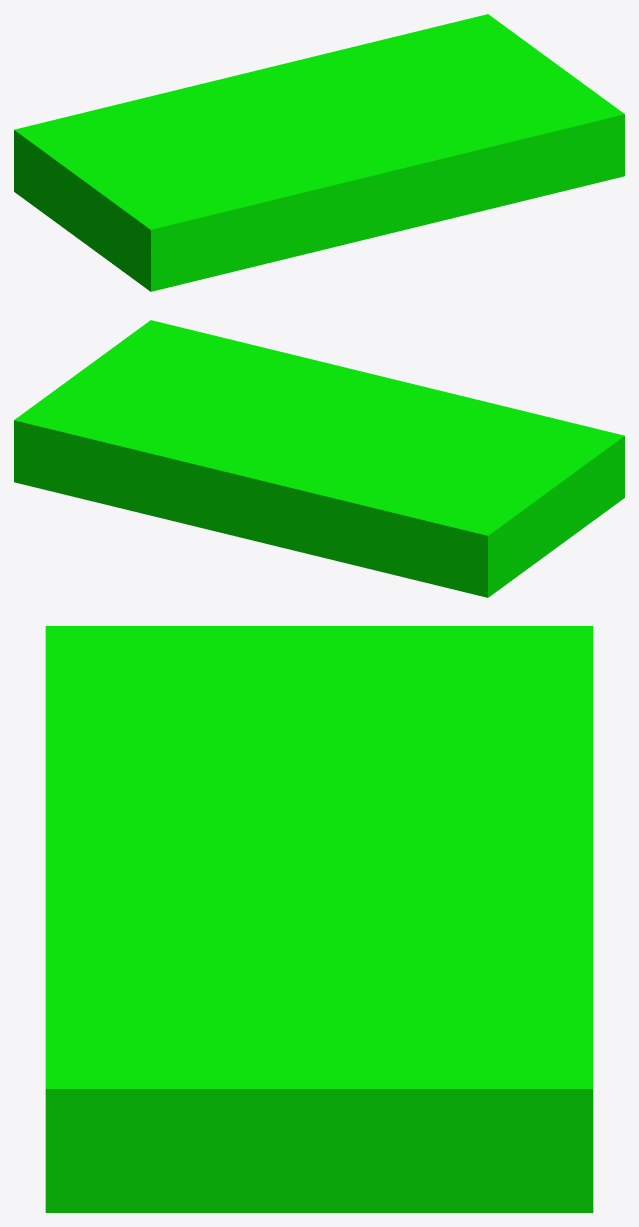
The model's file is Road.fbx.
3 renders of one model, top to bottom at view 1: azimuth 30°, elevation 25°; view 2: azimuth 150°, elevation 25°; view 3: azimuth 270°, elevation 25°, orthographic. The views are drawn at different scales.
Visible parts, largest first — view 1: generated; view 2: generated; view 3: generated.
Part boxes in pixels (<box>): generated: <box>14,14,624,291</box>; generated: <box>14,320,624,597</box>; generated: <box>45,626,593,1212</box>.
Size of the model in its own units: 160 by 20 by 80.
